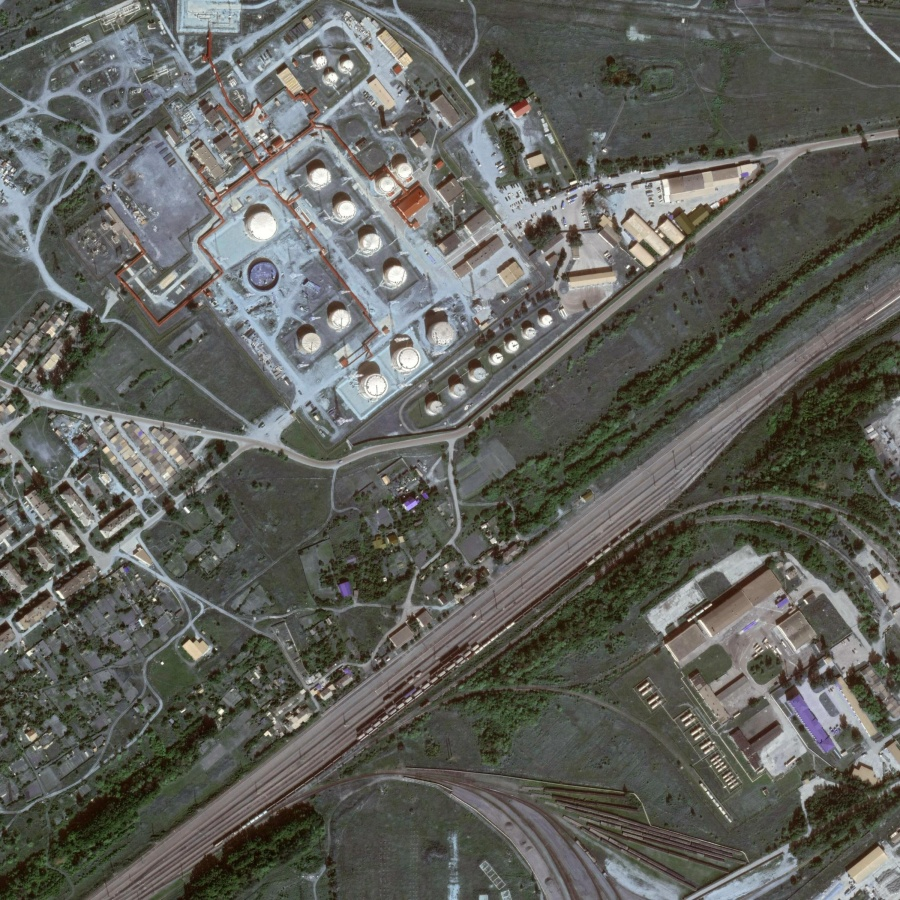PowerPlant: (246, 126, 559, 417)
